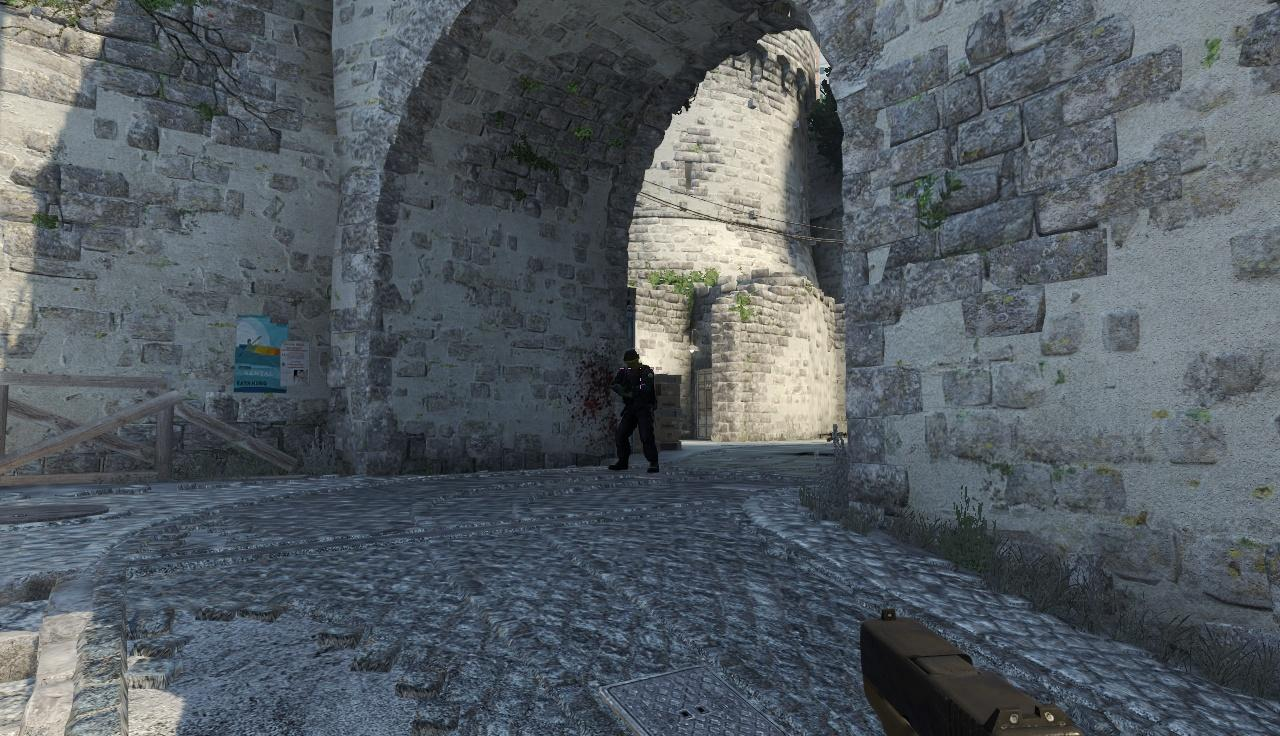ct: (616, 348, 659, 474)
cthead: (623, 349, 643, 370)
pistol: (858, 604, 1097, 736)
